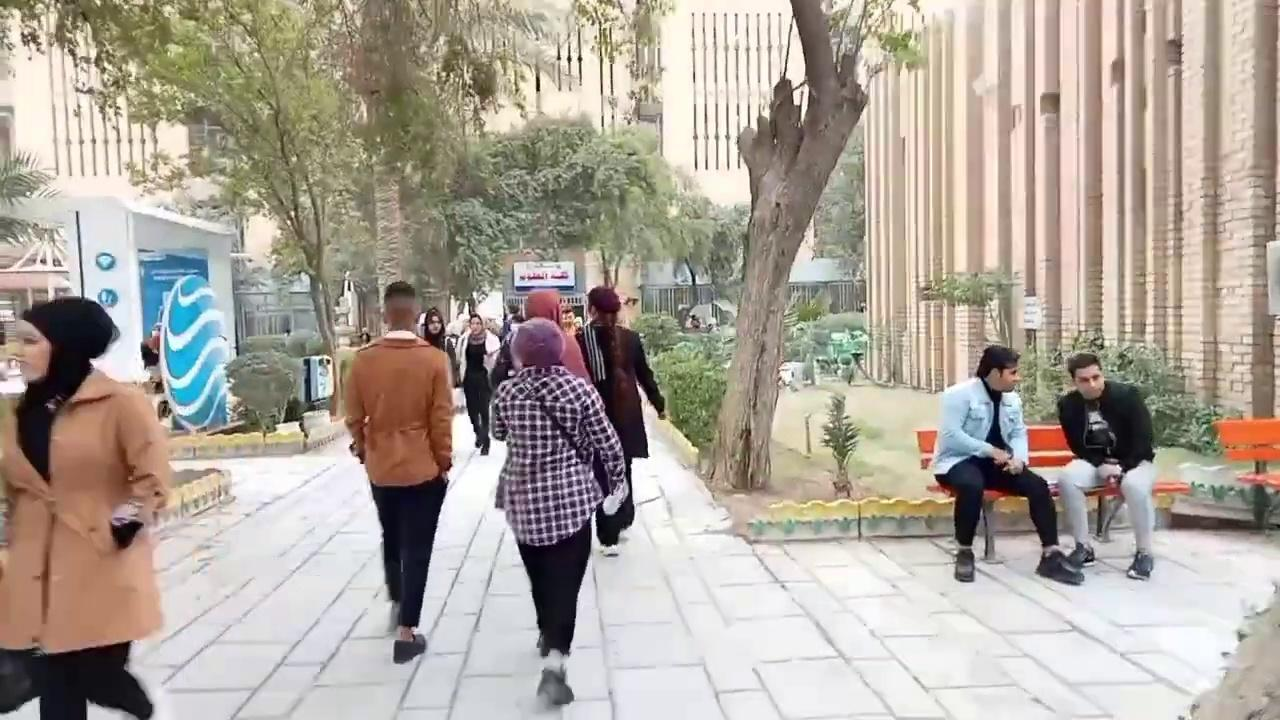person: (0, 295, 173, 719), (489, 317, 629, 705), (344, 280, 454, 662), (930, 344, 1084, 586), (574, 286, 666, 556), (1056, 352, 1158, 580)
tree: (0, 0, 666, 420), (701, 0, 926, 491), (123, 1, 376, 357), (430, 115, 716, 305), (311, 0, 471, 337), (919, 265, 1022, 382), (0, 145, 68, 265), (819, 392, 860, 497)
